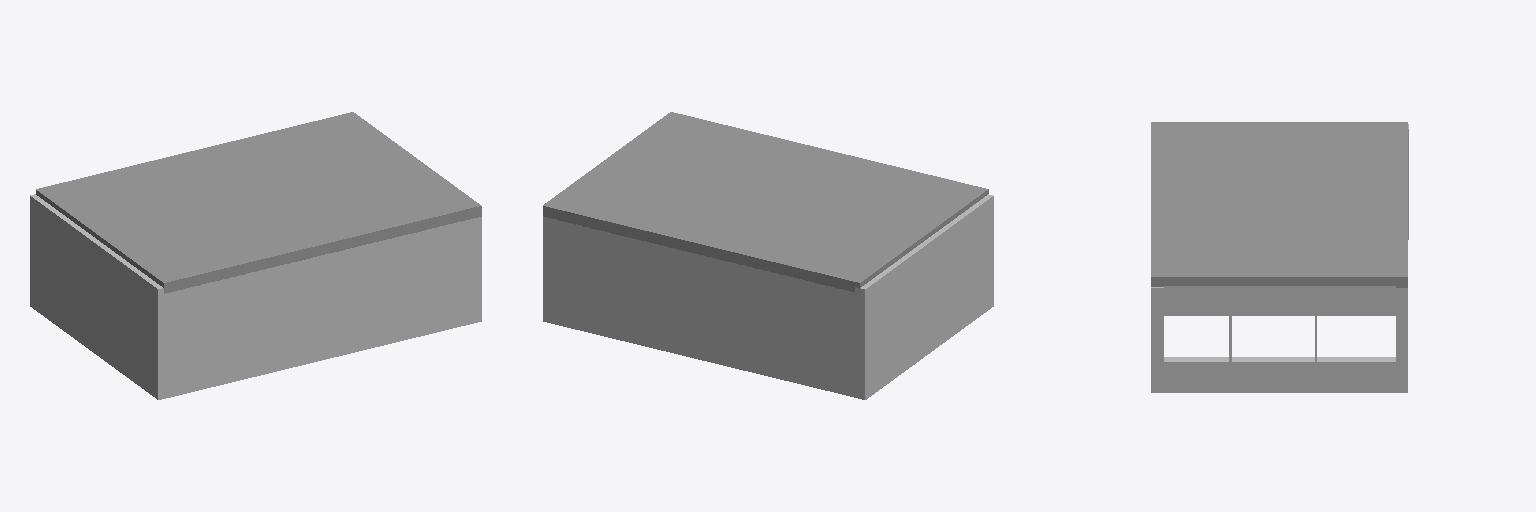
Rendered from room.obj.
The picture shows the model from 3 angles: view 1: azimuth 30°, elevation 25°; view 2: azimuth 150°, elevation 25°; view 3: azimuth 270°, elevation 25°; orthographic projection.
Parts seen in each view (by area): view 1: top_top_Cube.024, wall3_wall3_Cube.016, wall1_wall1_Cube.010; view 2: top_top_Cube.024, wall2_wall2_Cube.015, wall1_wall1_Cube.010; view 3: top_top_Cube.024, wall4_wall4_top_Cube.004_Cube.020, wall3_wall3_Cube.016, wall2_wall2_Cube.015.
Boxes of the visible parts, x1,y1,x2,y2 form: top_top_Cube.024: [36, 112, 481, 293]; wall3_wall3_Cube.016: [164, 217, 481, 398]; wall1_wall1_Cube.010: [30, 194, 163, 399]; top_top_Cube.024: [543, 112, 988, 291]; wall2_wall2_Cube.015: [543, 216, 854, 397]; wall1_wall1_Cube.010: [855, 194, 993, 399]; top_top_Cube.024: [1151, 122, 1407, 287]; wall4_wall4_top_Cube.004_Cube.020: [1164, 286, 1395, 392]; wall3_wall3_Cube.016: [1151, 287, 1163, 392]; wall2_wall2_Cube.015: [1396, 288, 1407, 392].
Size of the model in its own units: 3.05 by 1.05 by 2.1.